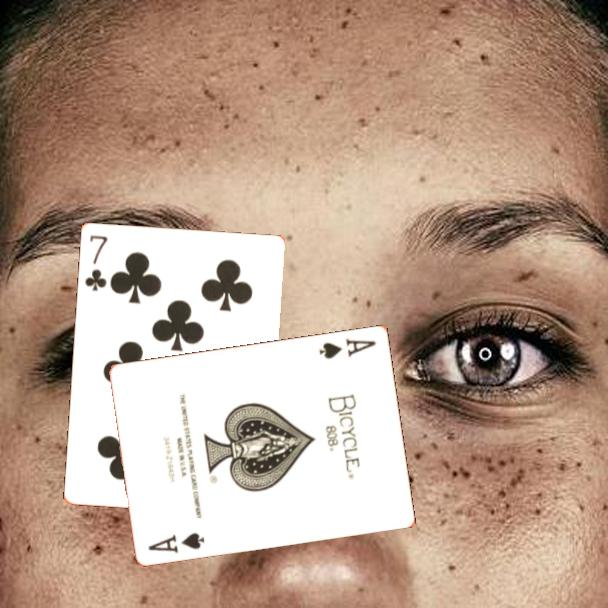c07: (81, 232, 110, 294)
s01: (316, 334, 379, 361), (145, 529, 207, 556)
